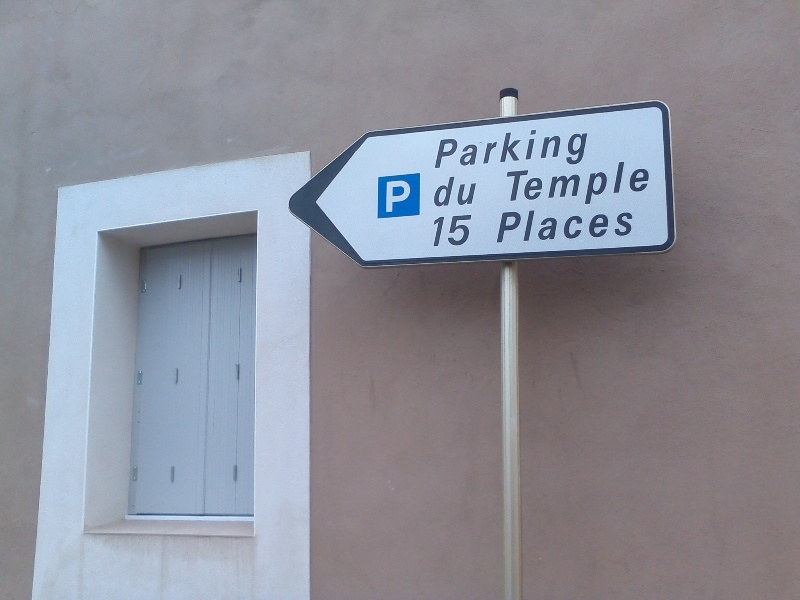text: (513, 158, 528, 209), (529, 158, 544, 209), (545, 158, 560, 209), (561, 158, 576, 209), (577, 158, 592, 209), (593, 158, 608, 209), (609, 158, 624, 209), (625, 158, 640, 209), (449, 126, 464, 169), (465, 126, 480, 169), (481, 126, 496, 169), (497, 126, 512, 169), (513, 126, 528, 169), (529, 126, 544, 169), (545, 126, 560, 169), (561, 126, 576, 169), (513, 206, 528, 244), (529, 206, 544, 244), (545, 206, 560, 244), (561, 206, 576, 244), (577, 206, 592, 244), (593, 206, 608, 244), (609, 206, 624, 244), (577, 126, 590, 169), (641, 158, 651, 209), (449, 213, 464, 247), (386, 179, 400, 214), (434, 213, 448, 247), (449, 176, 464, 207), (465, 176, 478, 207), (401, 179, 412, 214), (502, 206, 512, 244), (625, 206, 634, 244), (438, 176, 448, 207), (465, 213, 474, 247), (441, 126, 448, 169), (507, 158, 512, 209)
